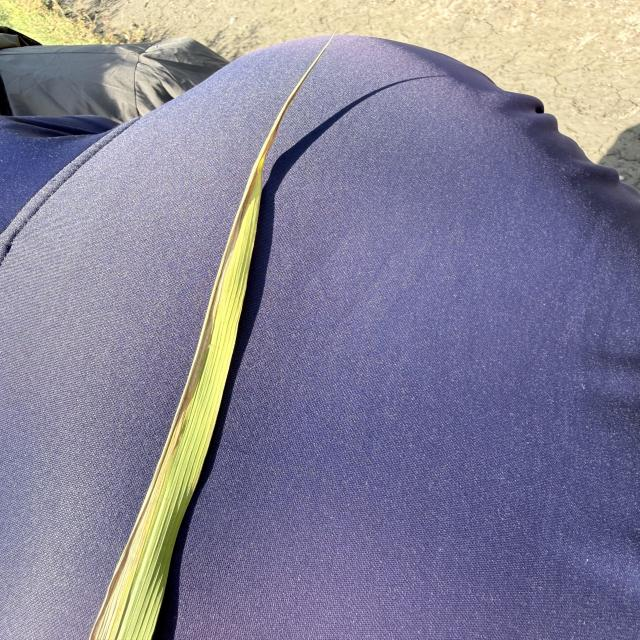Chay bia la: (90, 31, 335, 640)
